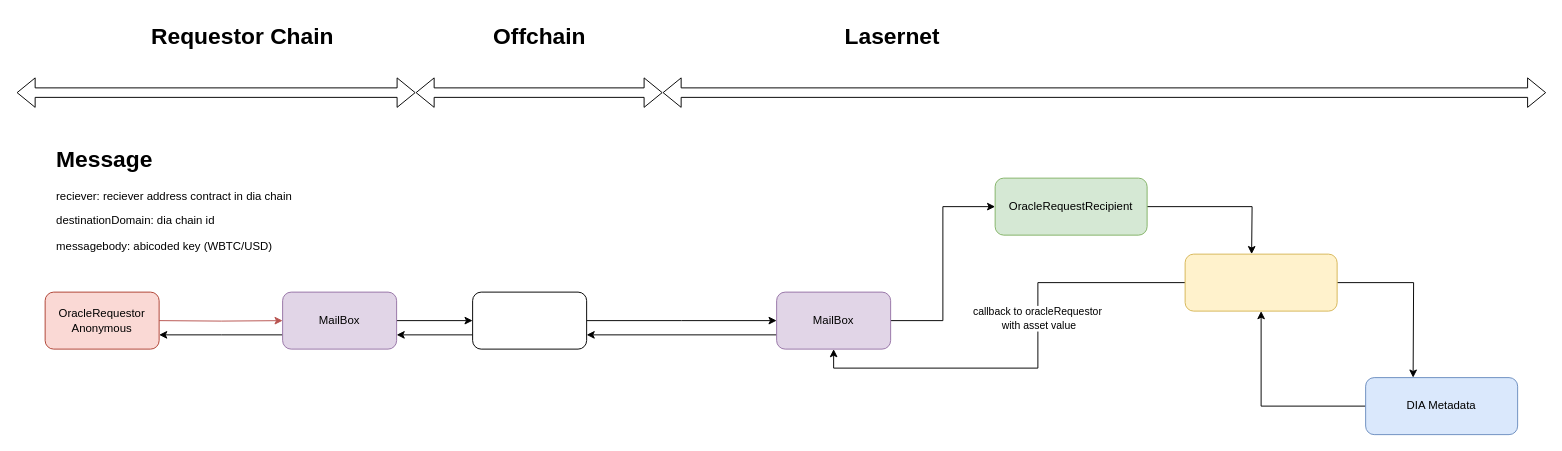
This 1562x451 diagram has some shape labels left out. Each missing label, with the box of its shape:
OracleTrigger: (1184, 253, 1337, 311)
Spectra: (472, 291, 587, 349)
